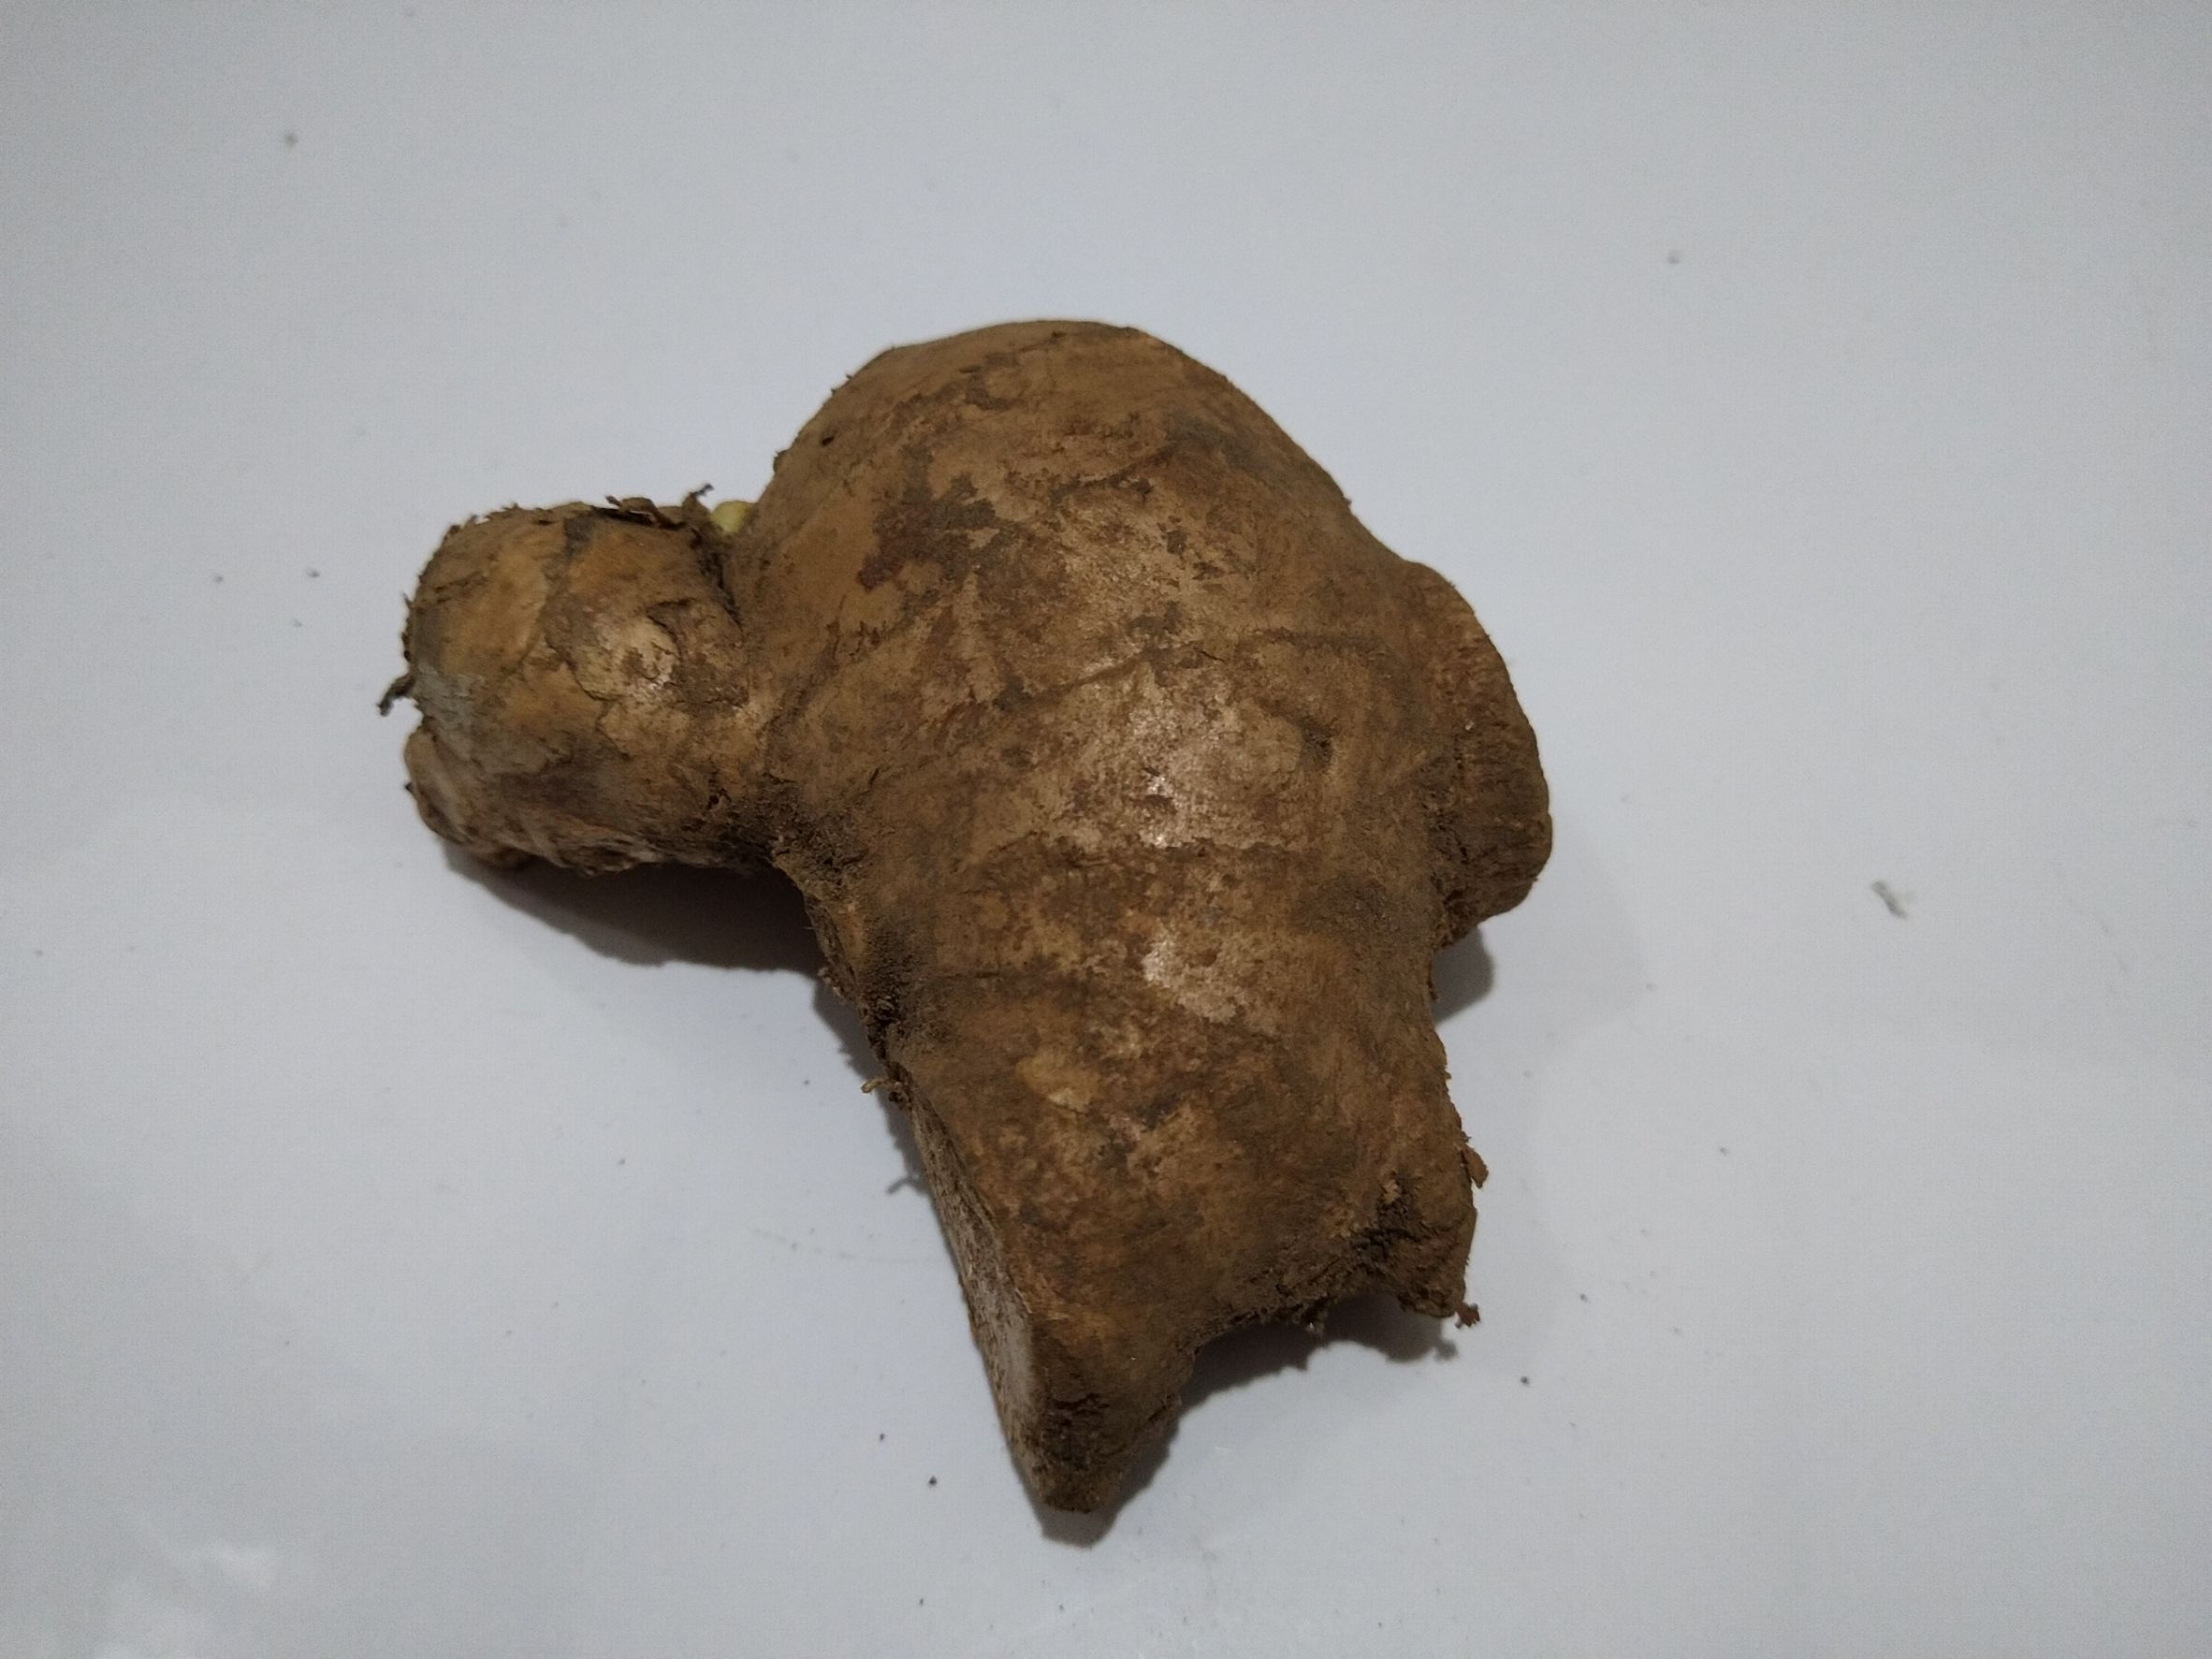Jahe: (408, 328, 1541, 1553)
